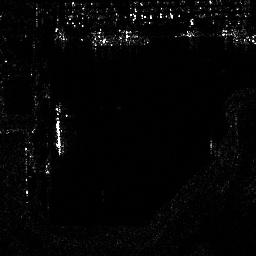ship: (49, 104, 66, 156)
